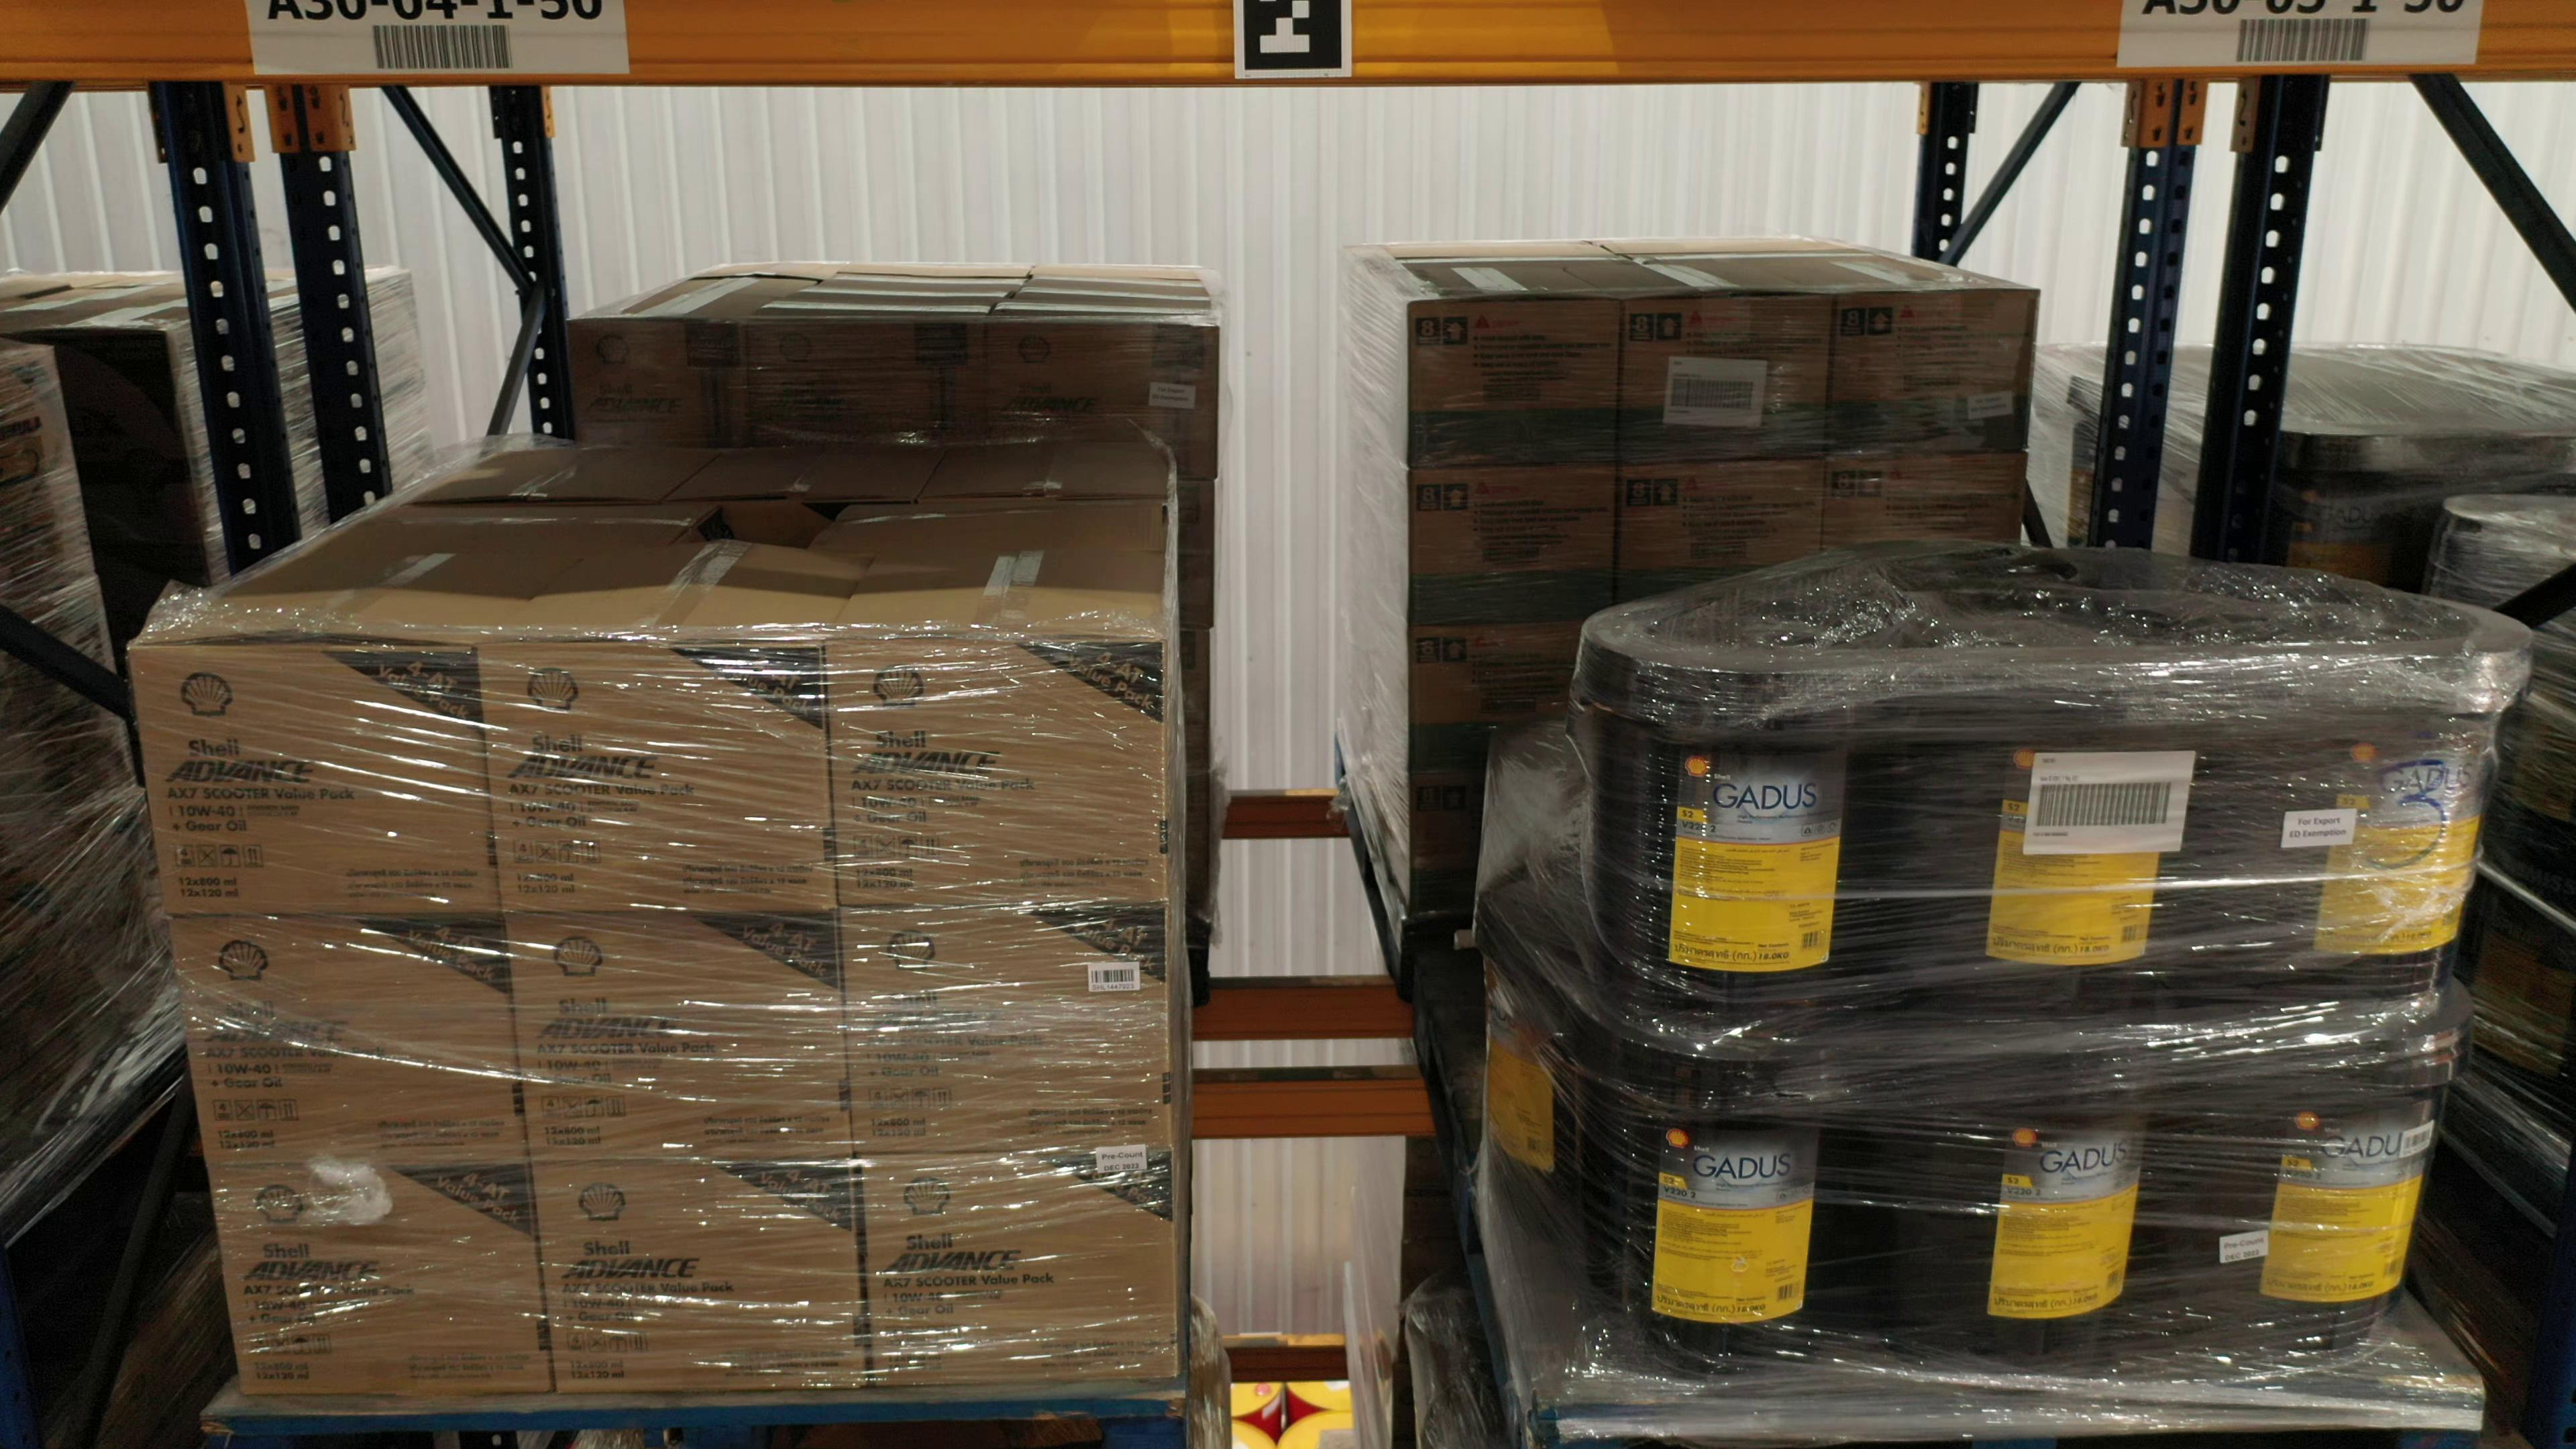-: (2235, 630, 2534, 1024), (1925, 653, 2226, 1031), (1591, 642, 1881, 1031), (2183, 993, 2463, 1382), (127, 642, 502, 922), (1913, 1010, 2173, 1401), (476, 637, 833, 915), (1596, 1026, 1863, 1392), (830, 633, 1164, 909), (177, 915, 531, 1168), (506, 913, 855, 1162), (840, 904, 1169, 1161), (211, 1161, 557, 1398), (533, 1161, 870, 1391), (858, 1152, 1180, 1391)
box: (998, 313, 1221, 488), (1617, 294, 1831, 472), (1831, 288, 2040, 464), (1412, 295, 1621, 469), (1407, 469, 1621, 635), (757, 315, 998, 448), (1621, 464, 1824, 600), (570, 315, 755, 448), (1829, 458, 2031, 554)
